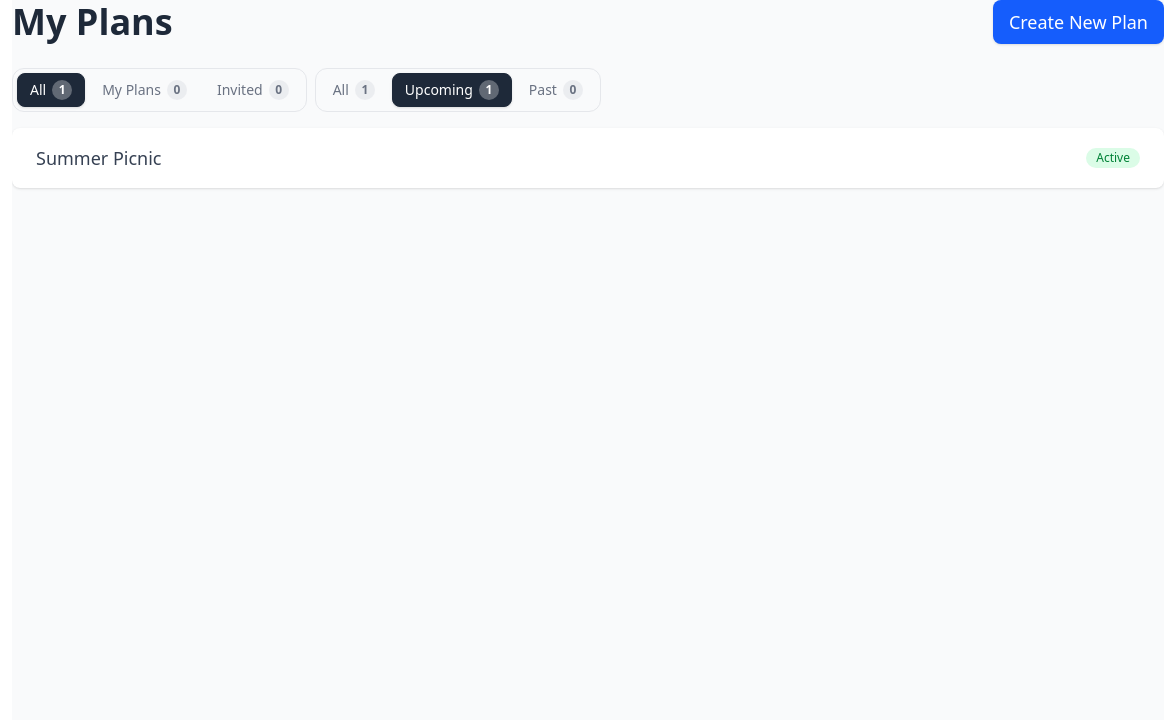
Test: CreatePlan - Navigation › should navigate from plans list to create-plan page when user clicks Create New Plan
Expected: the heading "My Plans" is shown, [12, 2, 173, 42]
Expected: the text "Summer Picnic" is shown, [36, 144, 162, 172]
Step 1. Click the link "Create New Plan" → click(1078, 22), box [993, 0, 1163, 44]
(page scrolled)
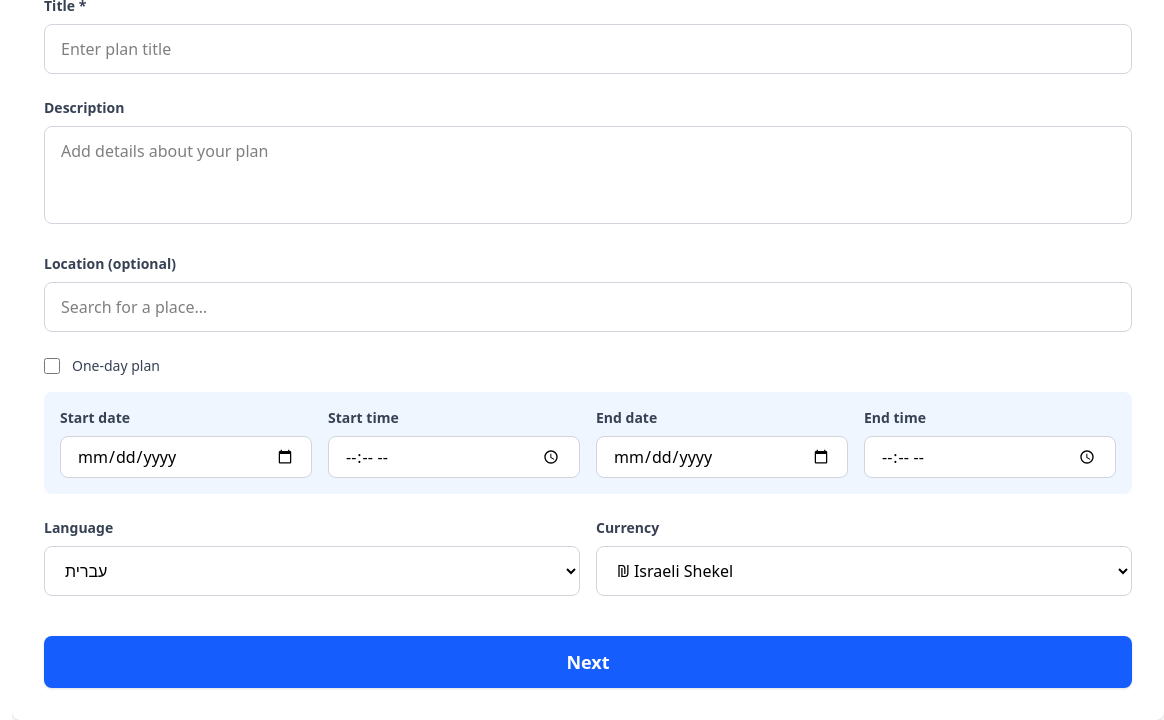
Expected: the button "Next" is shown, [44, 636, 1132, 688]
